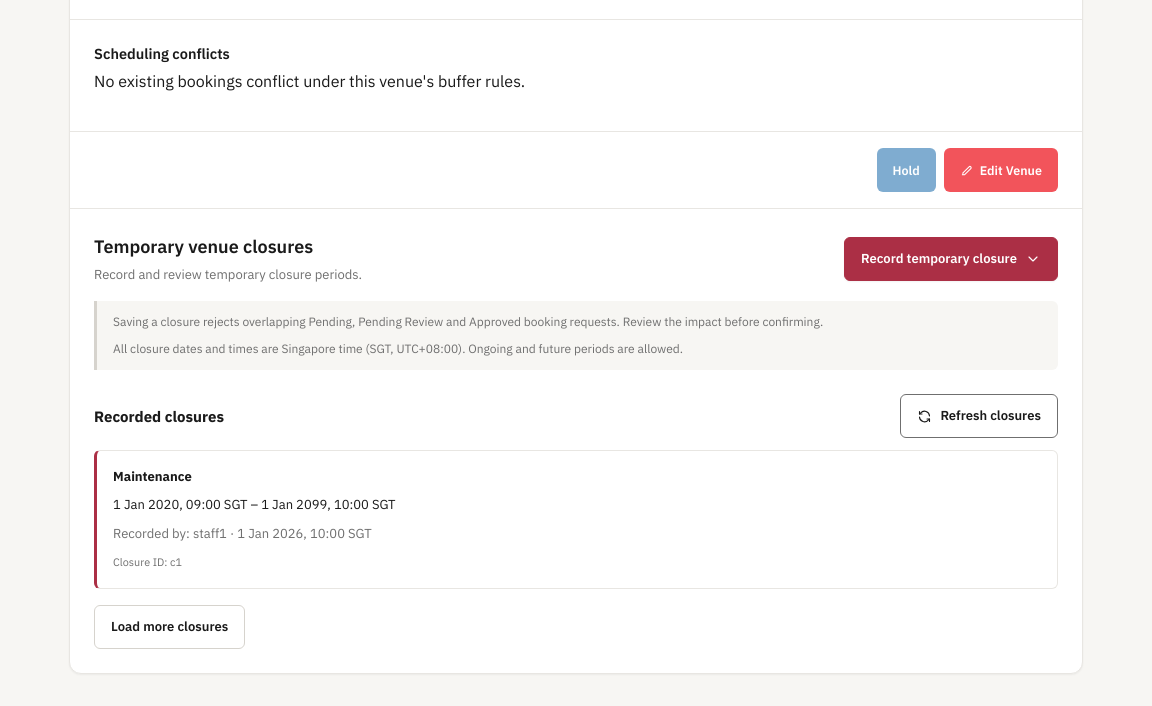
Test: SCRUM-170 persisted list uses Singapore dates, reaches later pages and refreshes from first page
(page scrolled)
Expected: the text "Maintenance" is shown, [113,468,192,485]
Expected: the text "1 Jan 2020, 09:00 SGT – 1 Jan 2099, 10:00 SGT" is shown, [113,496,396,513]
Click the button "Load more closures": click(170, 627) [94,605,245,649]
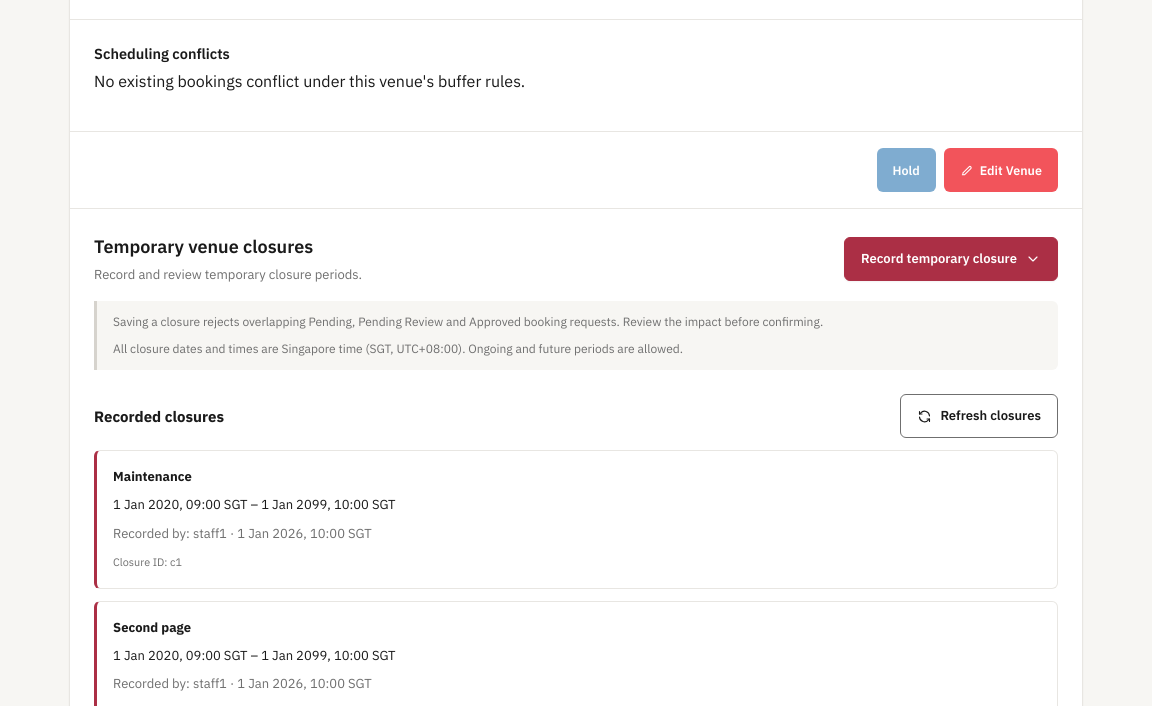
Expected: the text "Second page" is shown, [113,619,191,636]
Expected: the button "Load more closures" is gone
Click the button "Refresh closures": click(979, 416) [900,394,1058,438]
(page scrolled)
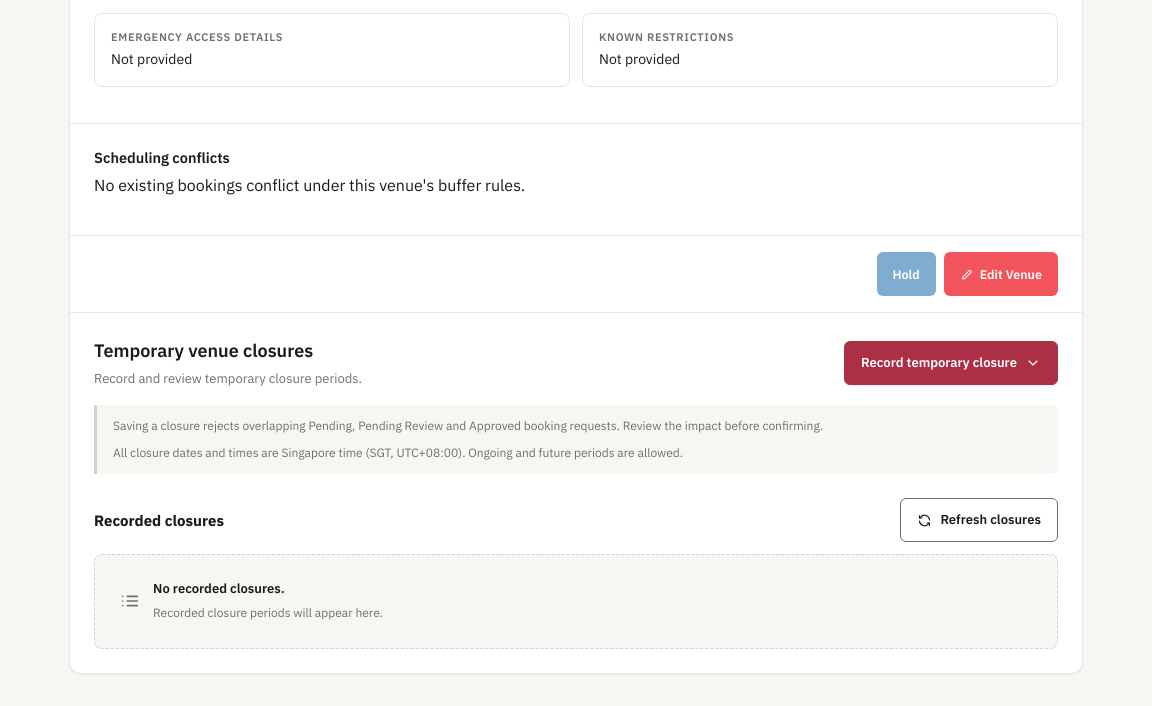
Expected: the text "No recorded closures." is shown, [153,580,285,597]
